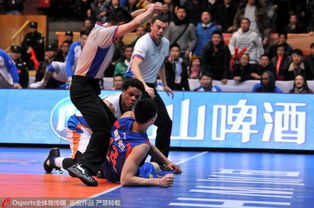10+: (1, 1, 312, 189)
down: (101, 96, 178, 189)
